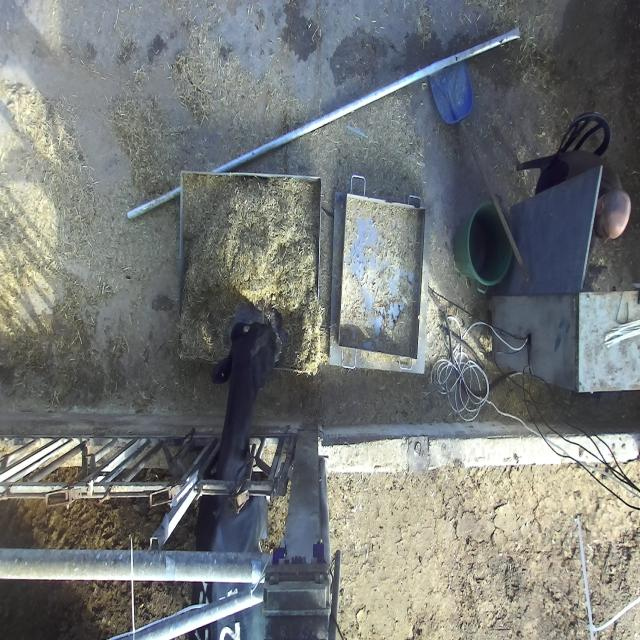cow: (210, 321, 285, 385)
